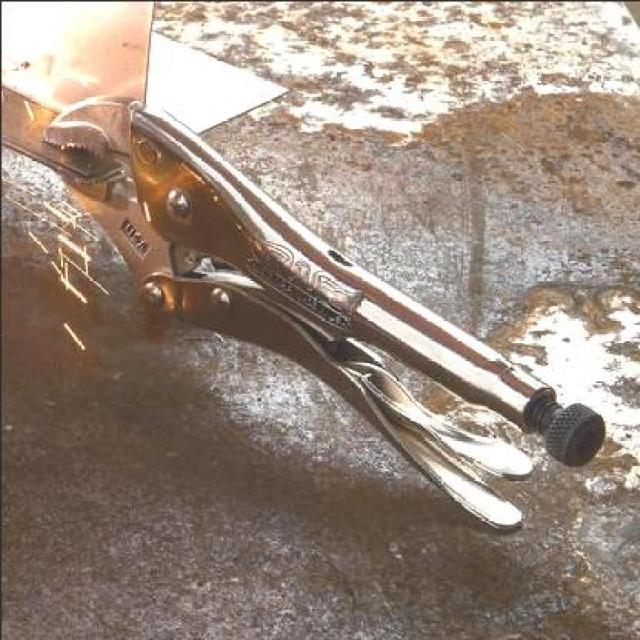pliers: (44, 90, 607, 530)
